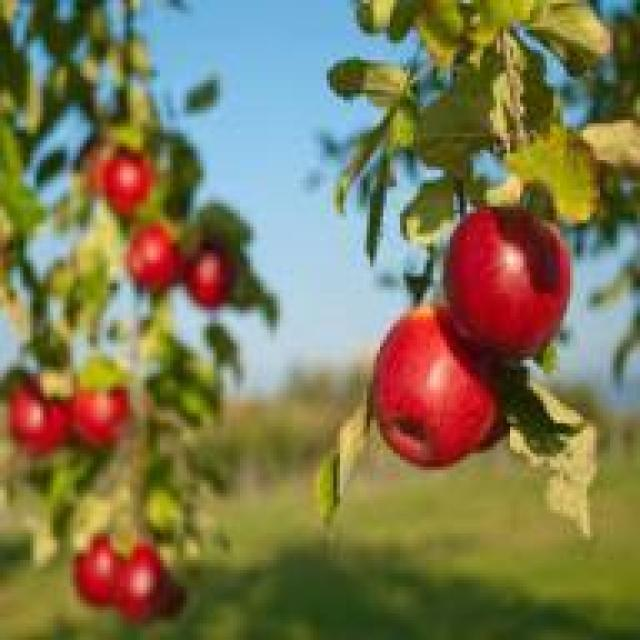apple: (370, 307, 497, 463), (434, 213, 574, 340), (63, 377, 140, 450), (127, 213, 193, 297), (10, 376, 73, 456), (110, 547, 183, 613), (184, 247, 244, 323), (97, 157, 160, 220), (77, 530, 123, 593)
